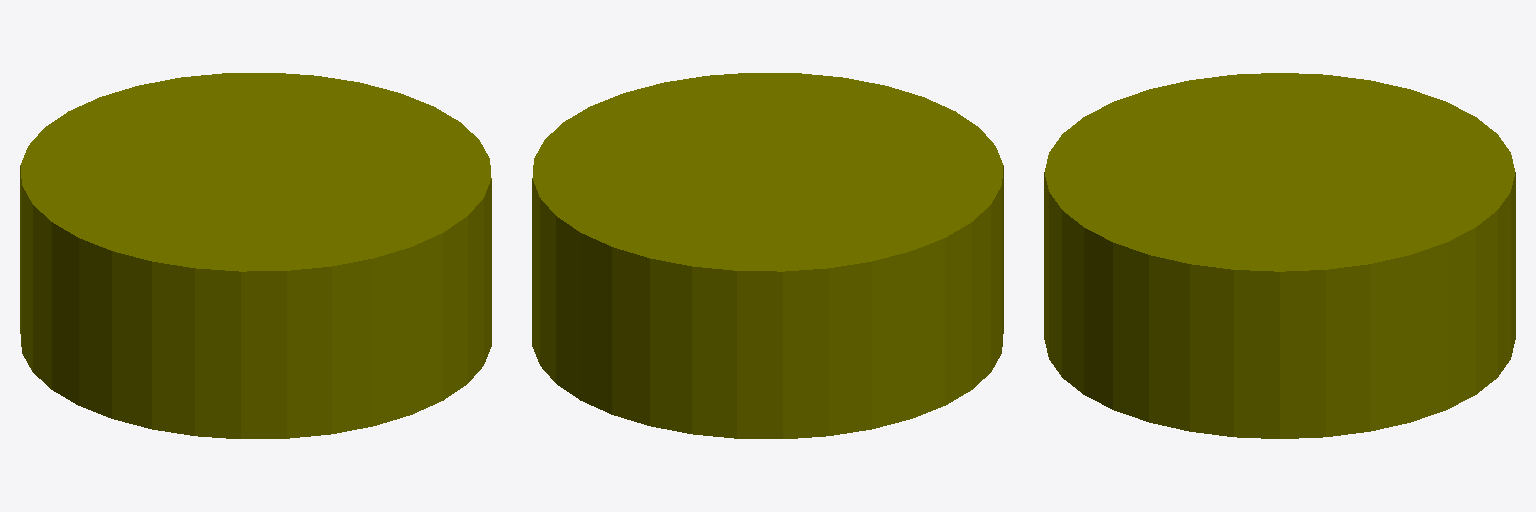
The robot description file, URDF, robot "cube":
<?xml version="1.0"?>
 <robot name="cube">
   <material name="golden">
     <color rgba="0.50196 0.50196 0 1"/>
   </material>
   <link name="base_link">
     <visual>
       <geometry>
         <cylinder length="0.03429" radius="0.043688"/>
       </geometry>
       <origin xyz="0 0 0" rpy="0 0 0"/>
       <material name="golden"/>
     </visual>
     <inertial>
       <mass value="0"/>
       <inertia ixx="1.0" ixy="0.0" ixz="0.0" iyy="1.0" iyz="0.0" izz="1.0"/>
     </inertial>
   </link>
 </robot>

--- Render facts (derived) ---
Views: 3 orthographic renders of the robot side by side, from view 1: azimuth 30°, elevation 25°; view 2: azimuth 150°, elevation 25°; view 3: azimuth 270°, elevation 25°.
Robot: cube — 1 links, 0 joints (none); root link base_link; default pose: every joint at zero.
Visible links, largest first — view 1: base_link; view 2: base_link; view 3: base_link.
Link boxes in pixels (x1,y1,x2,y2): base_link: [20, 73, 491, 438]; base_link: [532, 73, 1003, 438]; base_link: [1044, 73, 1515, 438].
Size in the robot's own frame: 0.0874 by 0.0874 by 0.0343 metres.
Geometry: primitives only (box / cylinder / sphere), no mesh files.